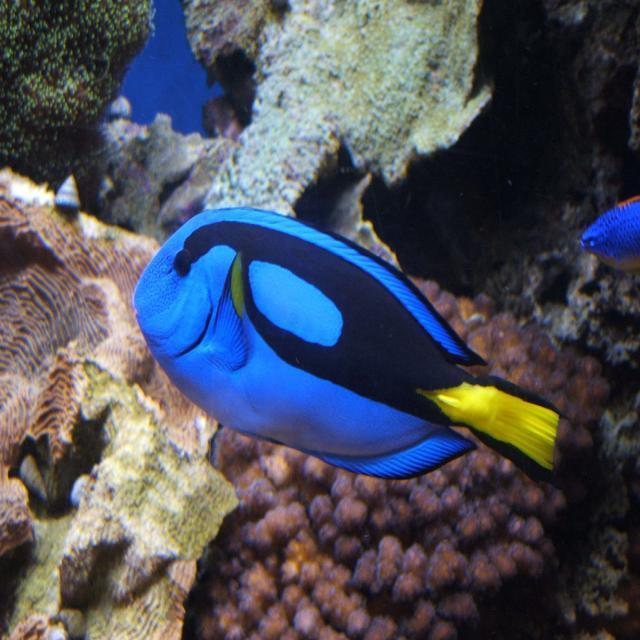TangFish: (132, 205, 559, 484)
